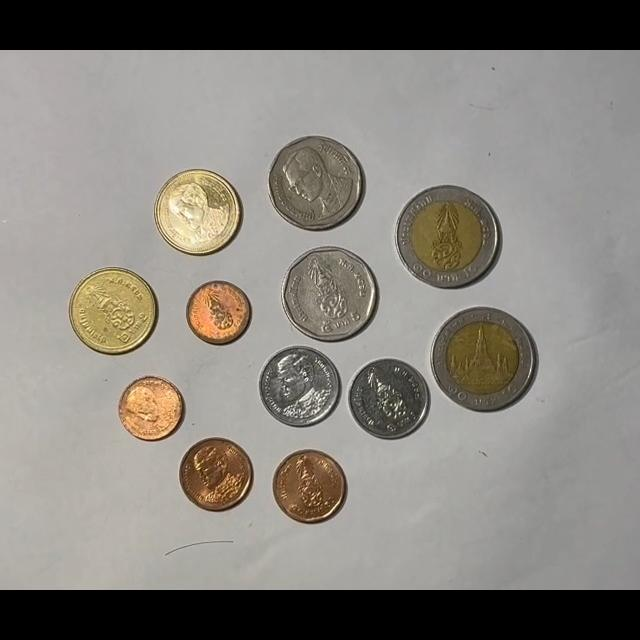1-baht: (347, 358, 430, 440), (258, 346, 341, 428)
10-baht: (430, 306, 537, 411), (395, 185, 501, 289)
2-baht: (154, 168, 243, 256), (69, 268, 157, 356)
25-satang: (118, 375, 185, 442), (186, 280, 252, 345)
5-baht: (281, 246, 379, 342), (267, 135, 365, 231)
50-satang: (179, 437, 254, 512), (272, 449, 347, 523)
